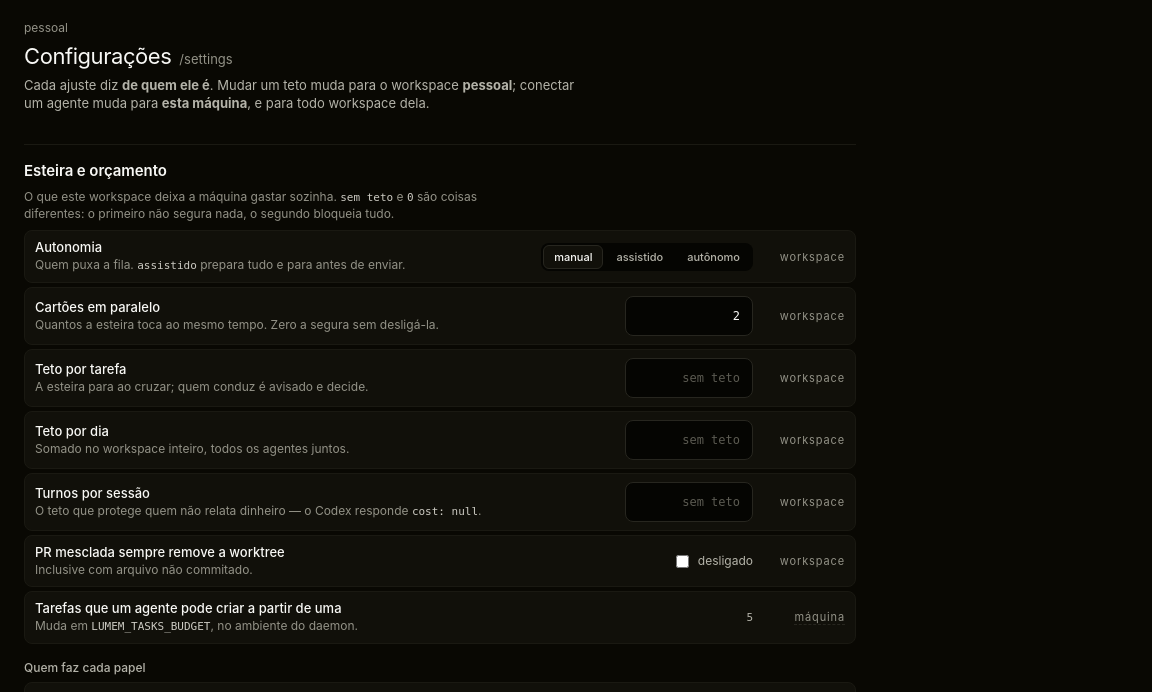
Test case: os três tetos, que nenhuma tela escrevia › a recusa do daemon aparece na linha, com a frase dele
Type "60" into the field named "turnos por sessão".
click(689, 502); type("60")  # box x1=625 y1=482 x2=753 y2=522
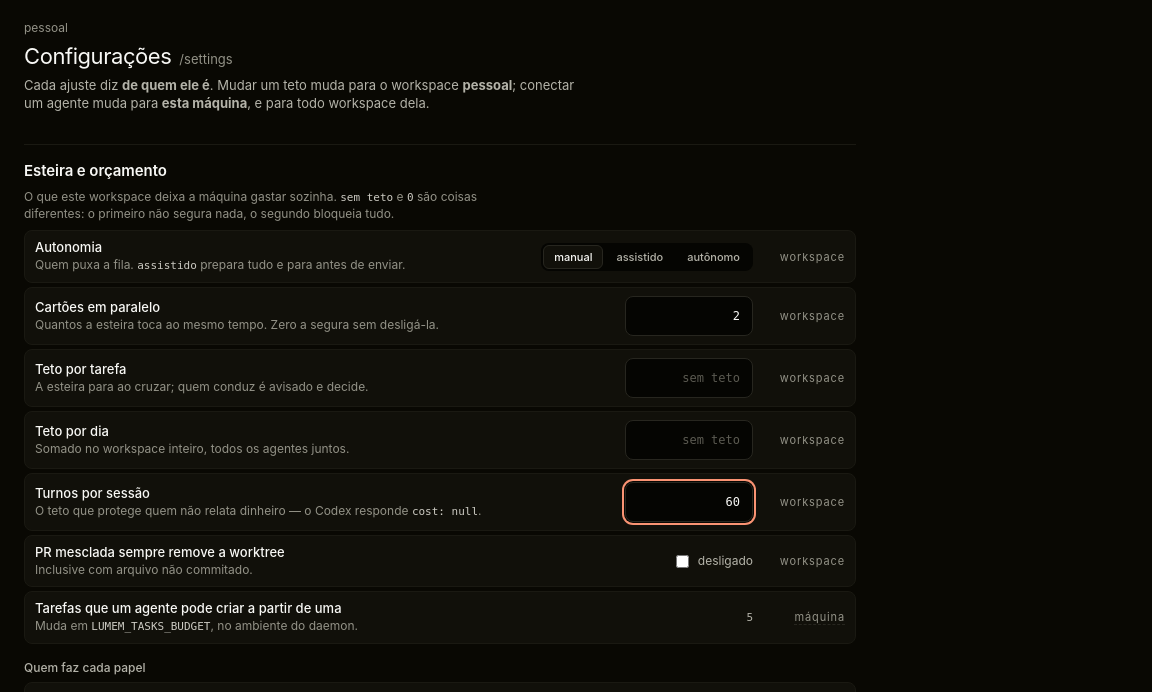
Press Tab
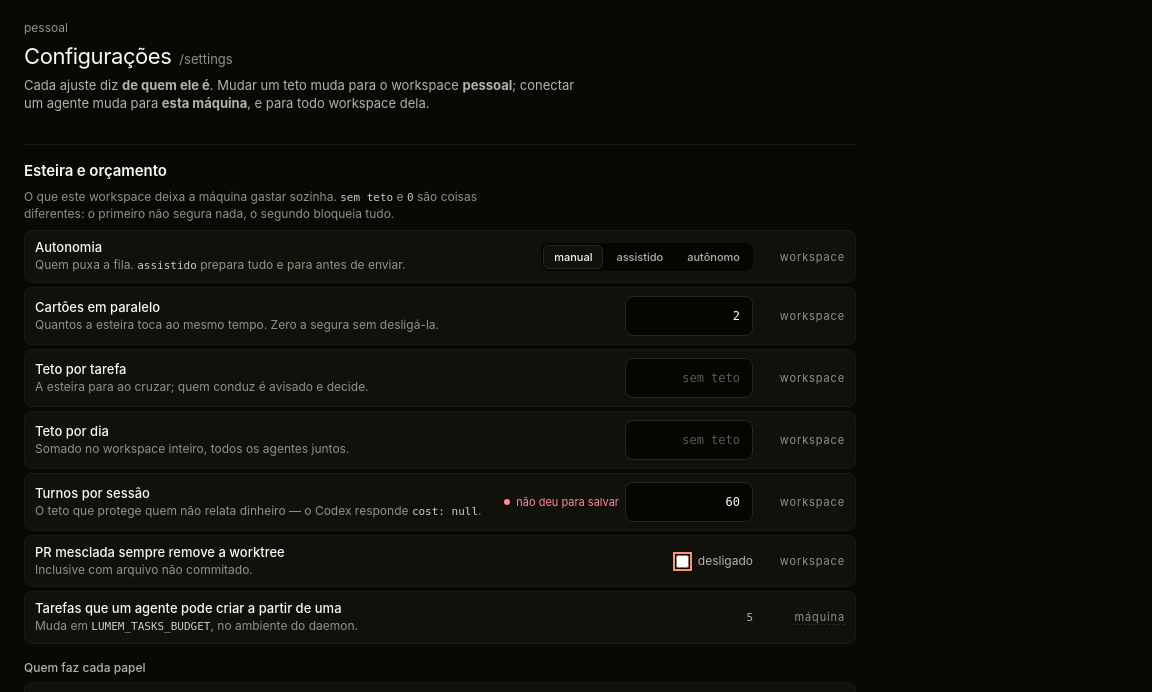
Expected: the element titled "workspace_budget check falhou" reads "não deu para salvar", x1=516 y1=495 x2=619 y2=509
